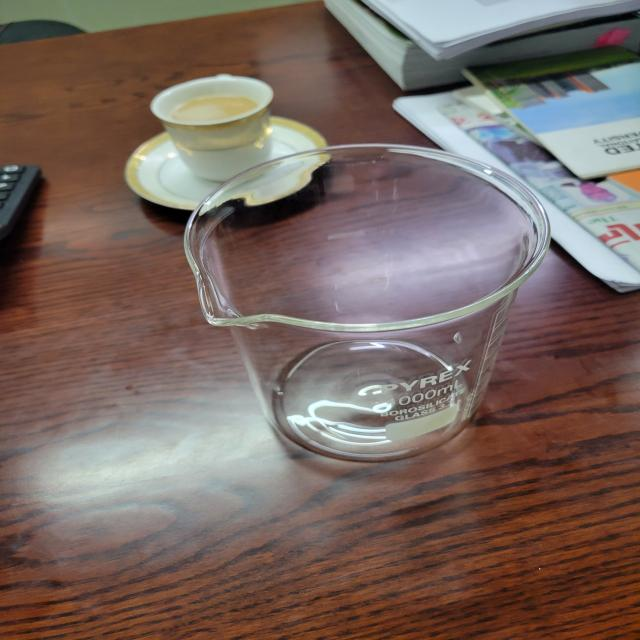Beaker: (155, 132, 566, 482)
